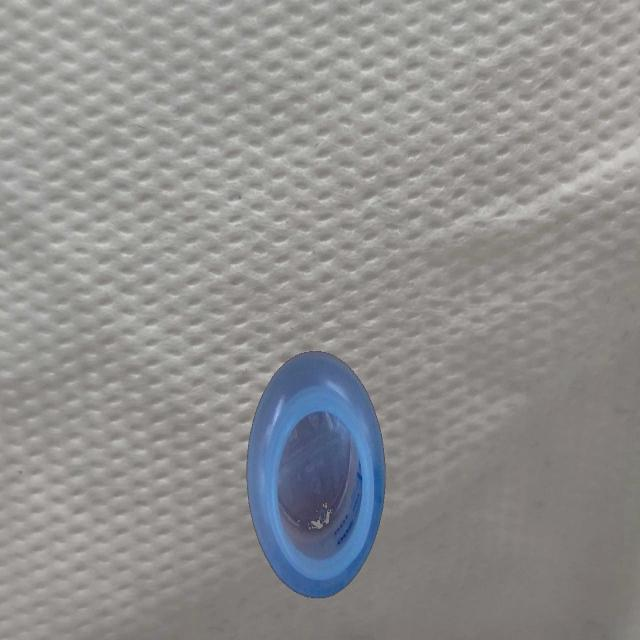bottle: (246, 346, 386, 602)
